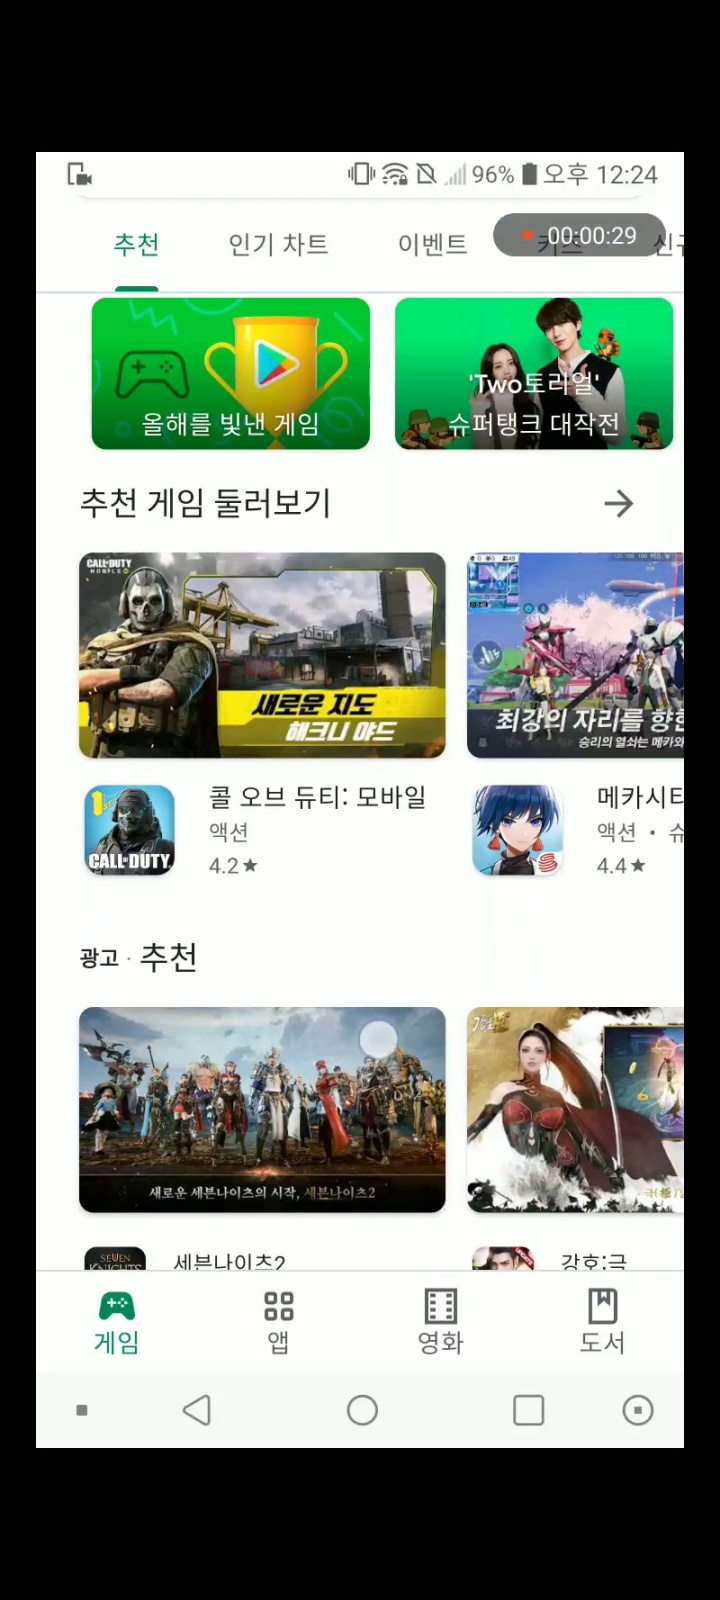Cursor: (357, 1017, 402, 1062)
